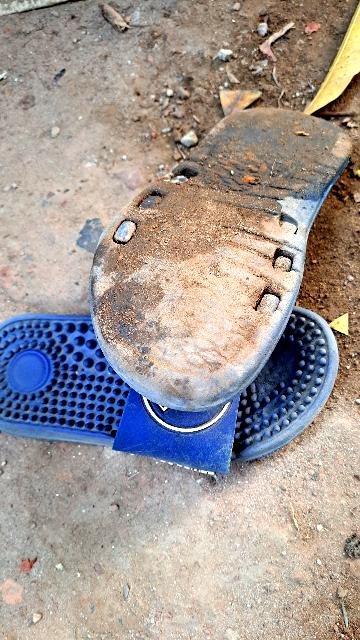sandal: (26, 55, 360, 432), (0, 243, 347, 488)
